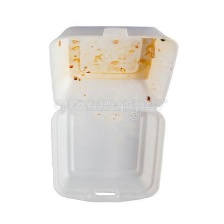foam_box: (42, 20, 182, 209)
